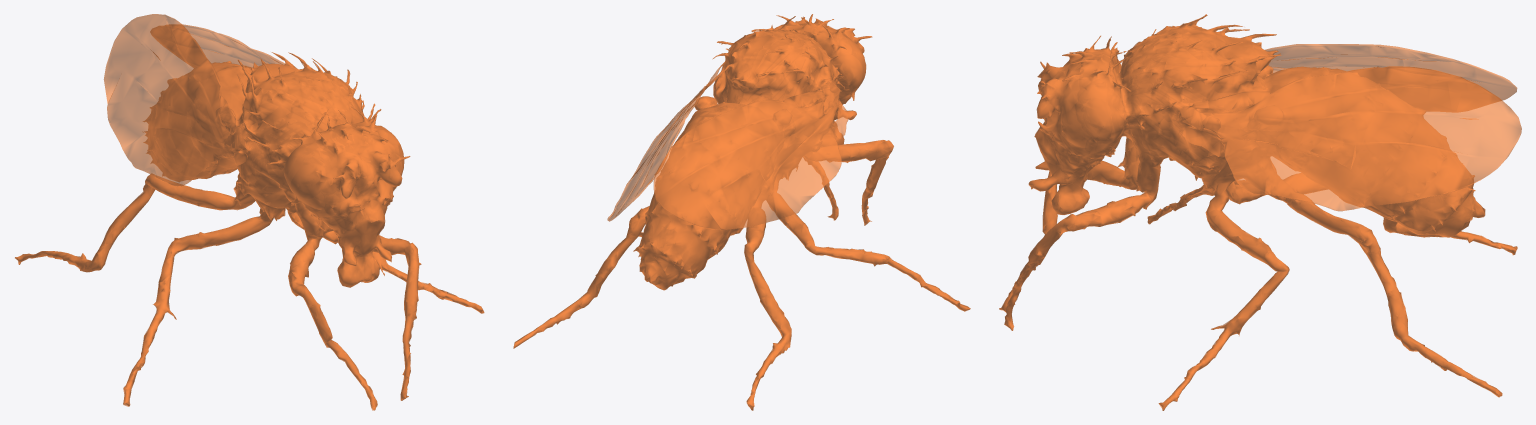
Rendered from earth3d4-fruit-fly.glb.
The picture shows the model from 3 angles, left to right: view 1: azimuth 30°, elevation 25°; view 2: azimuth 150°, elevation 25°; view 3: azimuth 270°, elevation 25°; orthographic projection. The views are drawn at different scales.
Visible parts, largest first — view 1: Object_2; view 2: Object_2; view 3: Object_2.
Part boxes in pixels (bbox=[...]): Object_2: bbox=[15, 14, 484, 410]; Object_2: bbox=[513, 14, 970, 410]; Object_2: bbox=[999, 14, 1521, 410].
Size of the model in its own units: 1.75 by 1.28 by 2.03.
